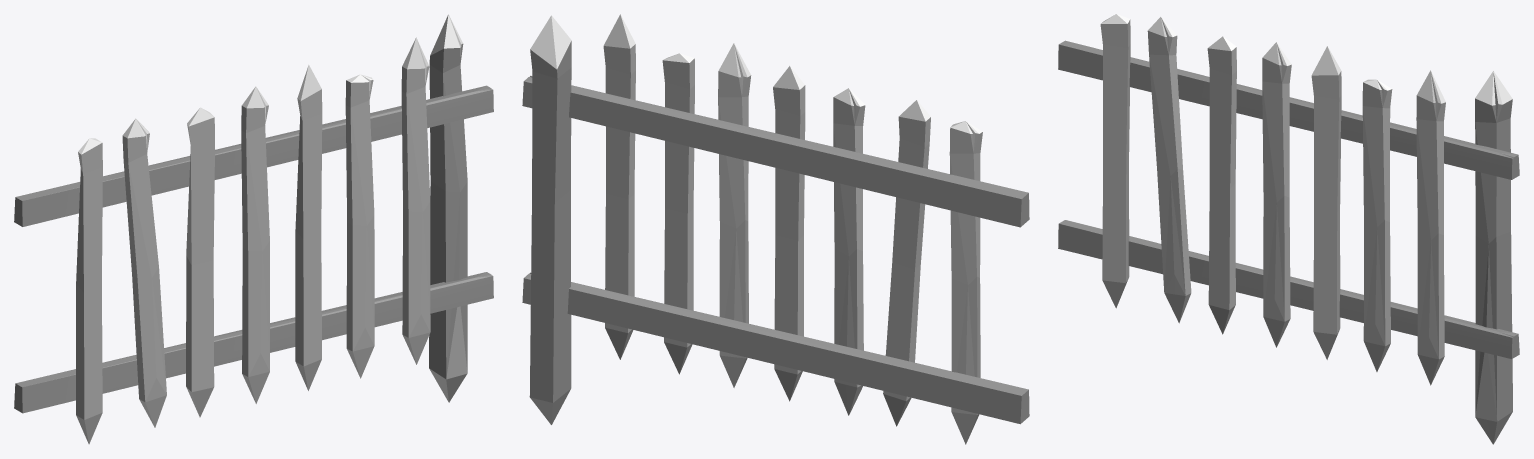
Rendered from PT_Modular_Fence_Wood_01.glb.
The picture shows the model from 3 angles, left to right: view 1: azimuth 30°, elevation 25°; view 2: azimuth 150°, elevation 25°; view 3: azimuth 330°, elevation 25°; orthographic projection. The views are drawn at different scales.
Parts seen in each view (by area): view 1: PT_Modular_Fence_Wood_01; view 2: PT_Modular_Fence_Wood_01; view 3: PT_Modular_Fence_Wood_01.
Boxes of the visible parts, x1=… form: PT_Modular_Fence_Wood_01: x1=14, y1=14, x2=493, y2=444; PT_Modular_Fence_Wood_01: x1=522, y1=14, x2=1029, y2=444; PT_Modular_Fence_Wood_01: x1=1058, y1=14, x2=1519, y2=444.
Bounding box in the file's own units: 2.2 × 1.74 × 0.245.
Materials: 1 (1 with a texture image).
